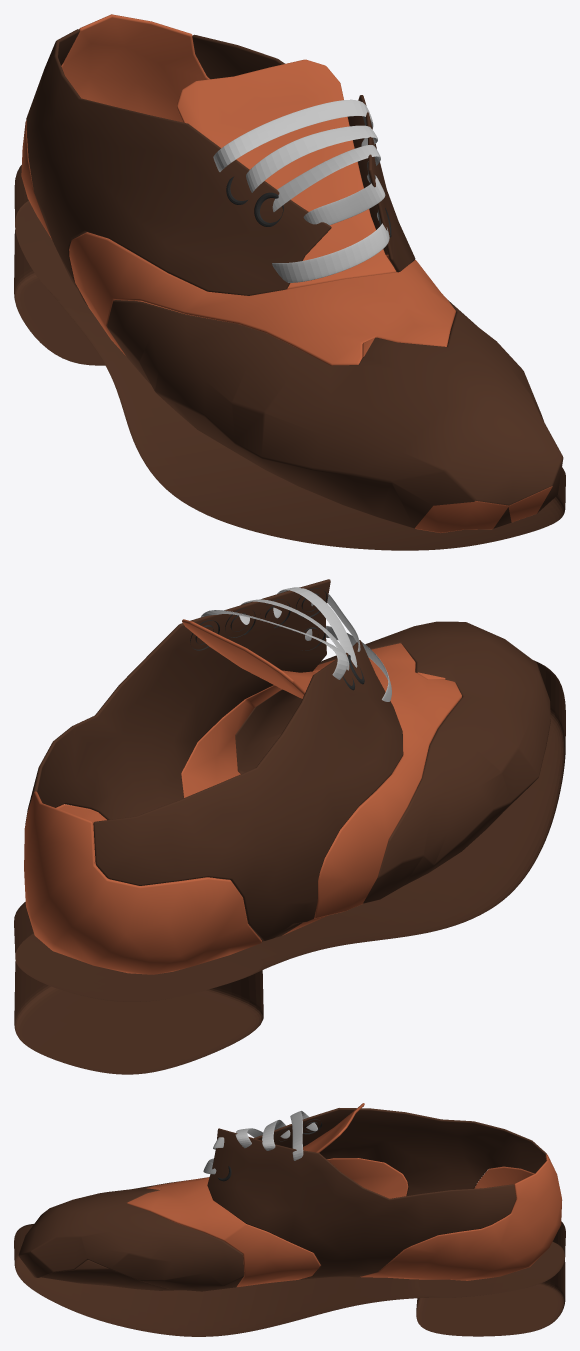
The model's file is za2ve1derecha.fbx.
3 views of the same model, one above another, from view 1: azimuth 30°, elevation 25°; view 2: azimuth 150°, elevation 25°; view 3: azimuth 270°, elevation 25° (orthographic). The views are drawn at different scales.
Visible parts, largest first — view 1: zapato2, Plane, Plane.004, Plane.005, Plane.003, Plane.001, Plane.002; view 2: zapato2, Plane, Plane.001, Plane.004; view 3: zapato2, Plane, Plane.004, Plane.003, Plane.001.
Part boxes in pixels (x1=…): zapato2: x1=21, y1=14, x2=563, y2=532; Plane: x1=14, y1=165, x2=565, y2=550; Plane.004: x1=213, y1=99, x2=373, y2=171; Plane.005: x1=272, y1=212, x2=389, y2=282; Plane.003: x1=246, y1=125, x2=377, y2=192; Plane.001: x1=272, y1=145, x2=380, y2=211; Plane.002: x1=303, y1=174, x2=385, y2=225; zapato2: x1=24, y1=579, x2=550, y2=974; Plane: x1=14, y1=660, x2=565, y2=1074; Plane.001: x1=273, y1=587, x2=357, y2=667; Plane.004: x1=200, y1=610, x2=347, y2=679; zapato2: x1=18, y1=1103, x2=562, y2=1291; Plane: x1=14, y1=1221, x2=565, y2=1336; Plane.004: x1=290, y1=1110, x2=317, y2=1160; Plane.003: x1=262, y1=1119, x2=290, y2=1150; Plane.001: x1=235, y1=1128, x2=262, y2=1148.
Size of the model in its own units: 169 by 176 by 447.
